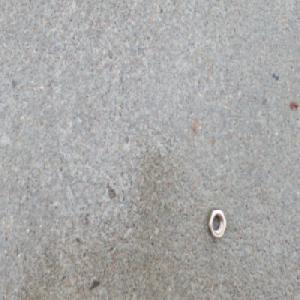Nut: (206, 206, 227, 242)
